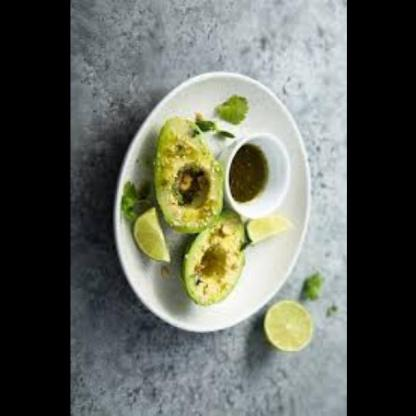avocado: (162, 112, 235, 231), (183, 209, 254, 316)
